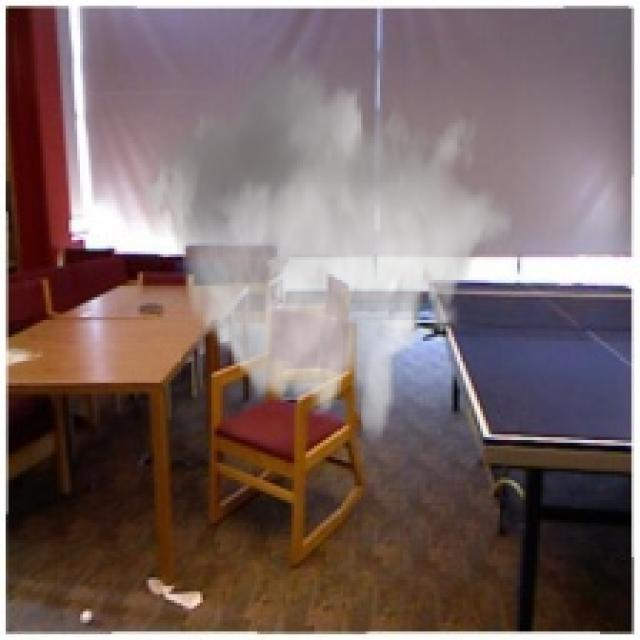smoke: (143, 37, 514, 443)
